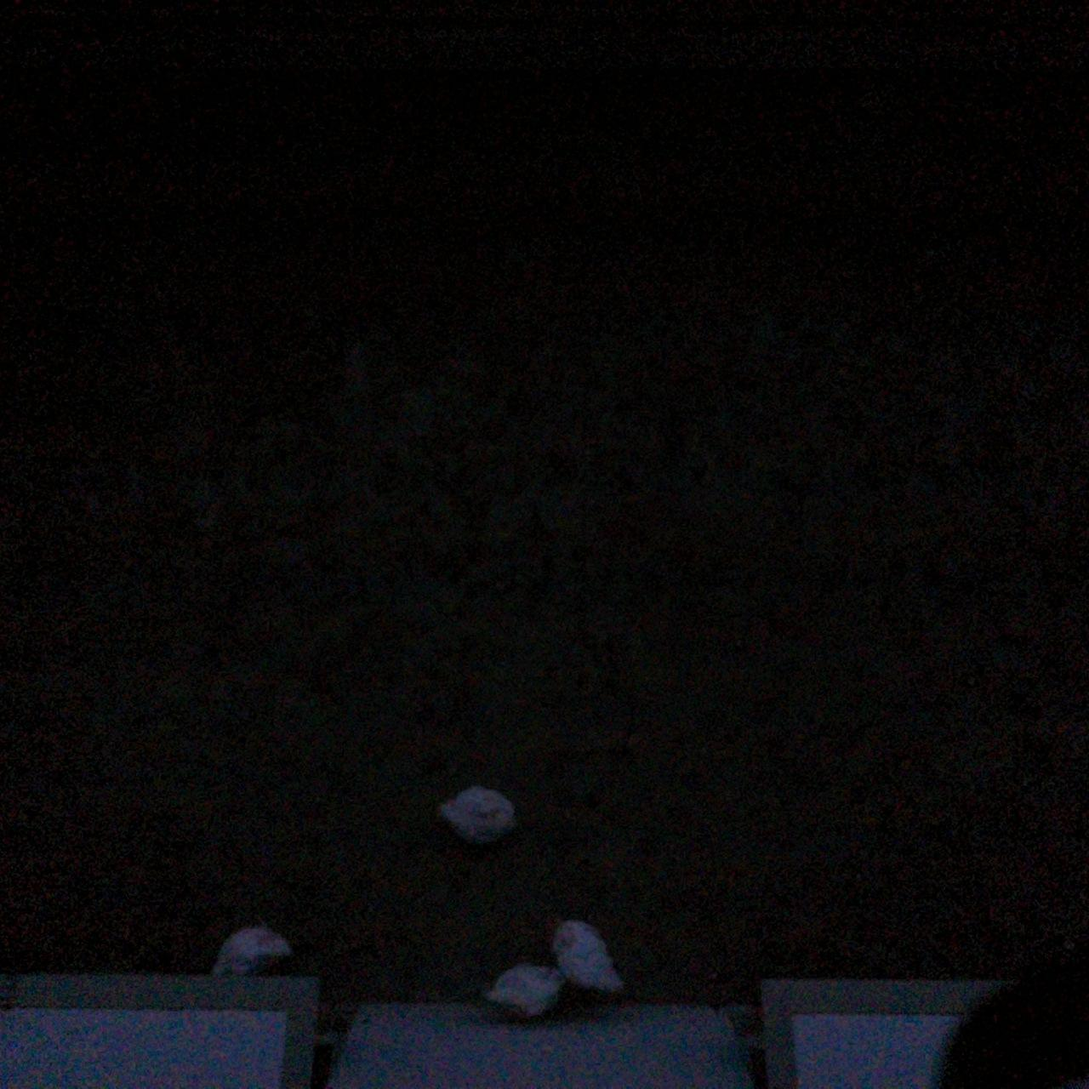chicken: (546, 909, 632, 996), (208, 906, 295, 979), (436, 779, 527, 846), (483, 957, 569, 1014)
